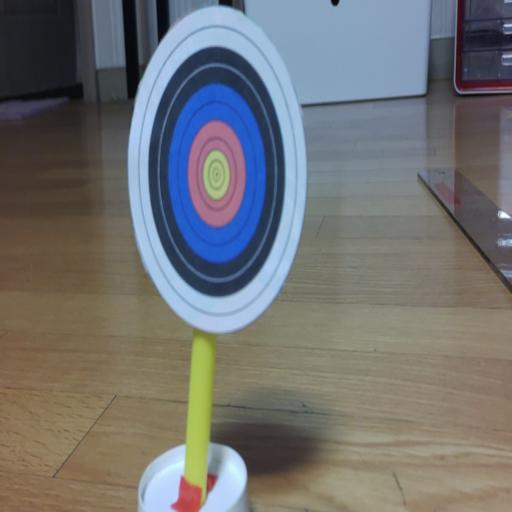target: (128, 6, 307, 331)
